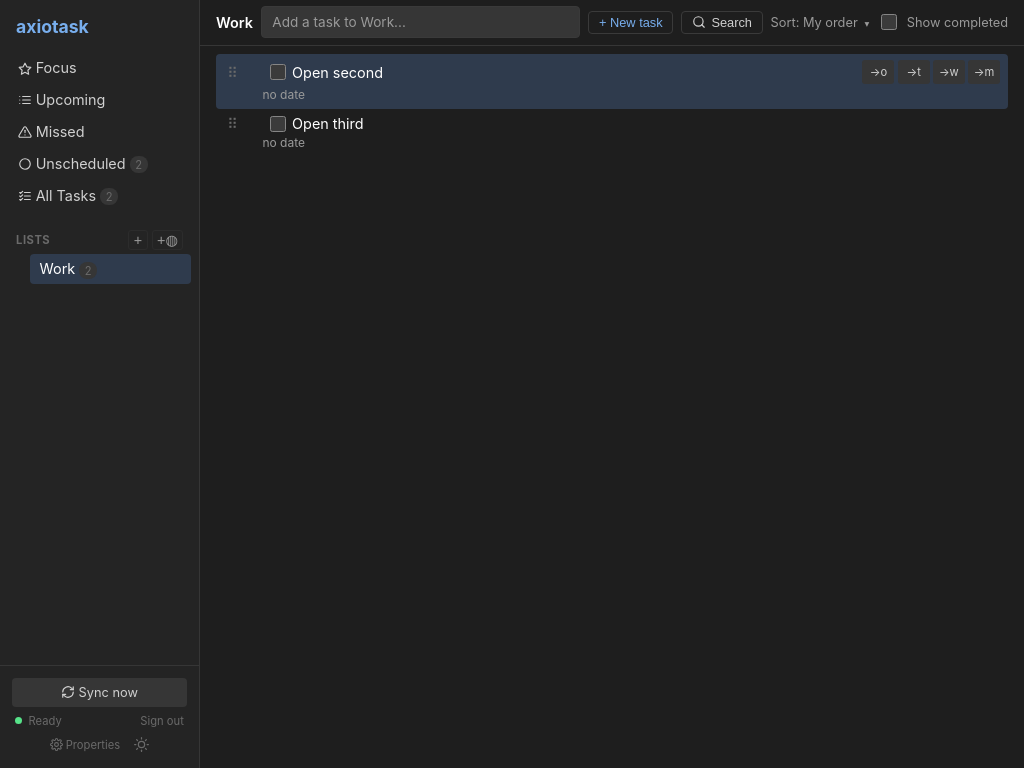
Scenario: Sort: Completed at bottom › moves completed tasks below open tasks regardless of sort
Expected: the text "Open second" is shown, x1=292 y1=64 x2=383 y2=81
Need showCompleted to see completed tasks
Click the checkbox labelled "Show completed" at x=889, y=22, box x1=881 y1=14 x2=897 y2=30
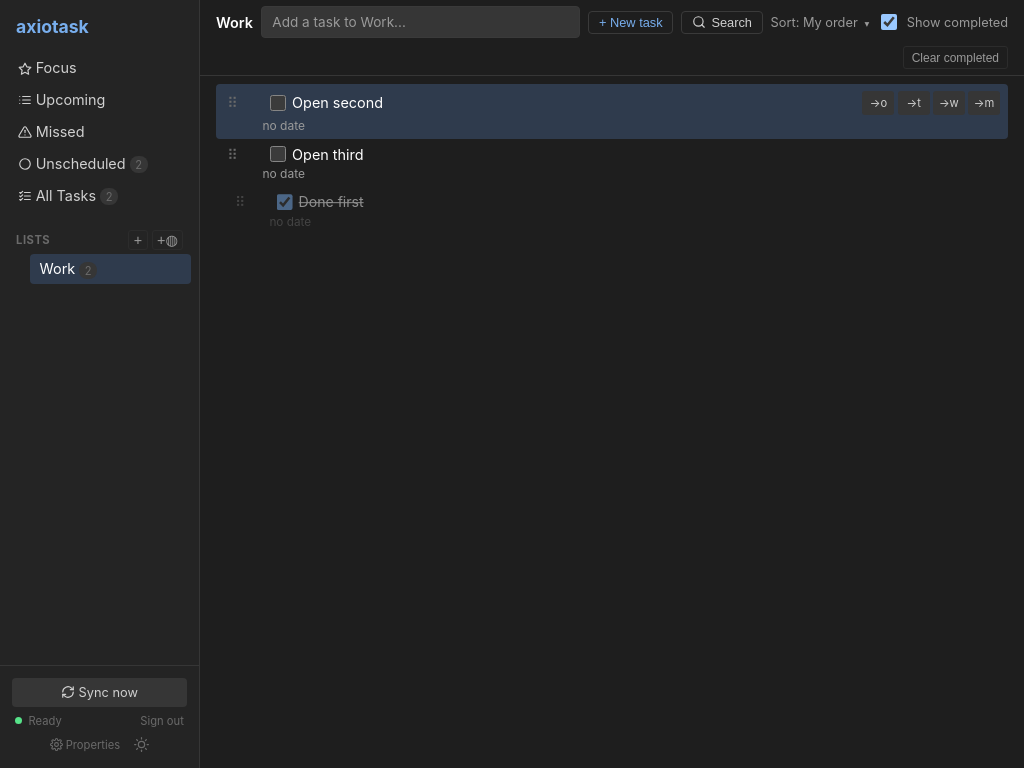
Expected: the text "Open second" is shown, x1=292 y1=94 x2=383 y2=111
Expected: the text "Done first" is shown, x1=298 y1=194 x2=364 y2=210
